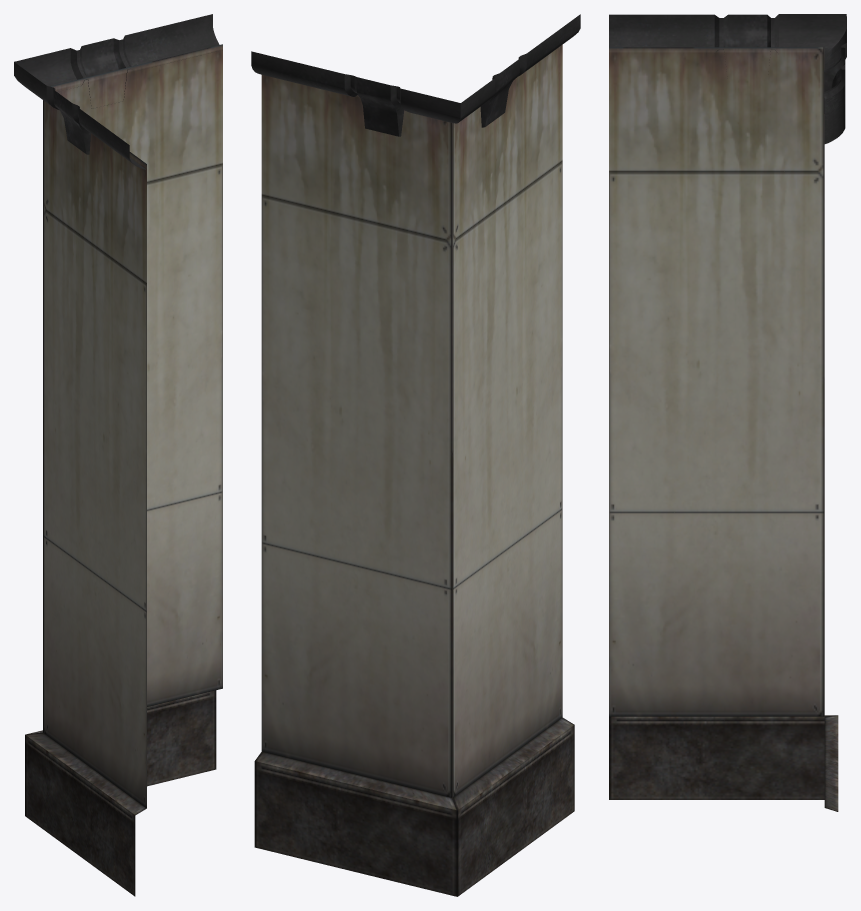
File: lab_convex_skinny.dae
The picture shows the model from 3 angles, left to right: view 1: azimuth 30°, elevation 25°; view 2: azimuth 150°, elevation 25°; view 3: azimuth 270°, elevation 25°; orthographic projection. The views are drawn at different scales.
Visible parts, largest first — view 1: lab_convex_skinny; view 2: lab_convex_skinny; view 3: lab_convex_skinny.
Boxes of the visible parts, x1=… form: lab_convex_skinny: x1=14, y1=14, x2=222, y2=896; lab_convex_skinny: x1=251, y1=14, x2=580, y2=896; lab_convex_skinny: x1=609, y1=14, x2=846, y2=811.
Size of the model in its own units: 1.1 by 4 by 1.1.
